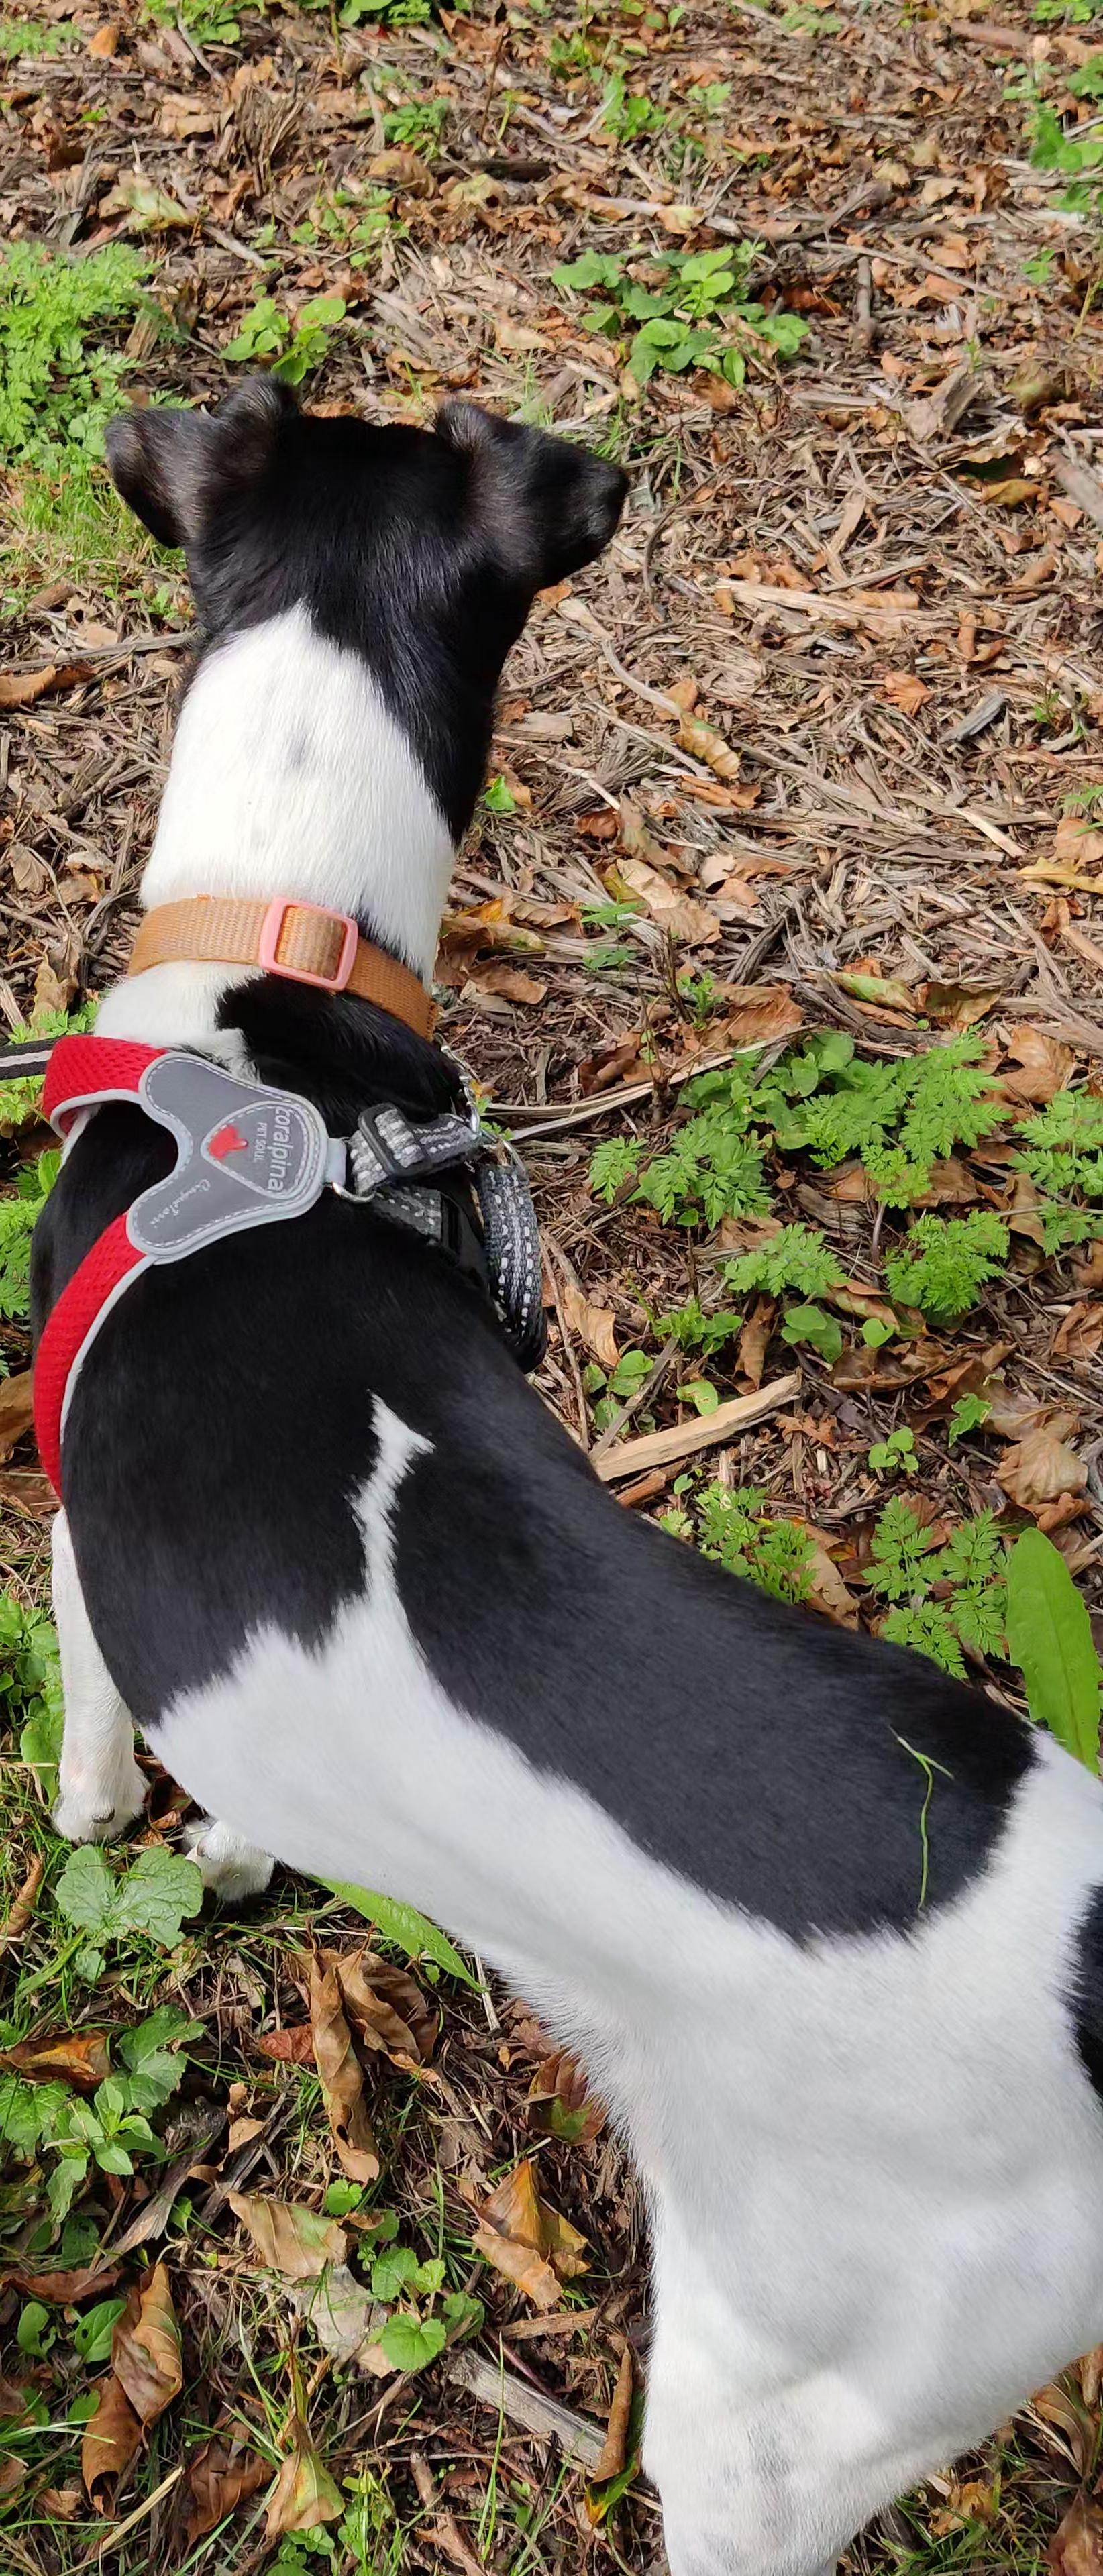Dog: (28, 345, 1103, 2576)
